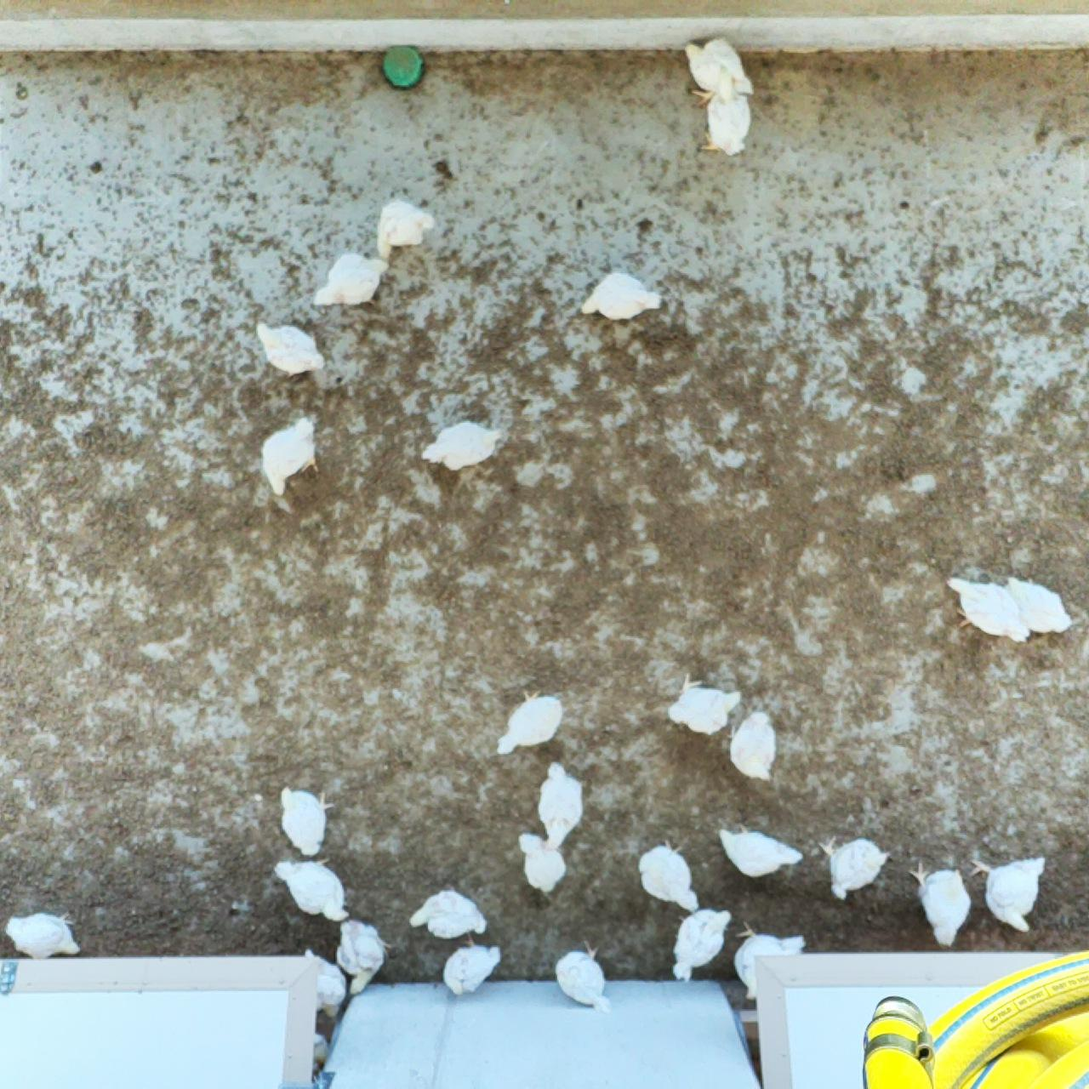chicken: (970, 849, 1049, 936), (942, 573, 1032, 649), (906, 856, 973, 950), (713, 819, 807, 885), (734, 918, 809, 1000), (679, 32, 757, 109), (817, 828, 897, 903), (493, 684, 569, 761), (272, 856, 355, 926), (254, 414, 321, 500), (419, 415, 506, 480), (692, 68, 754, 159), (667, 904, 734, 988), (664, 670, 744, 738), (333, 914, 397, 996), (253, 314, 329, 383), (550, 934, 615, 1014), (311, 249, 392, 313), (634, 837, 701, 914), (436, 931, 506, 1003), (405, 883, 491, 941), (579, 269, 665, 325), (536, 758, 586, 854), (276, 781, 336, 860), (372, 195, 439, 264), (1004, 572, 1074, 636), (724, 708, 782, 785), (300, 945, 348, 1023), (515, 829, 570, 895)
